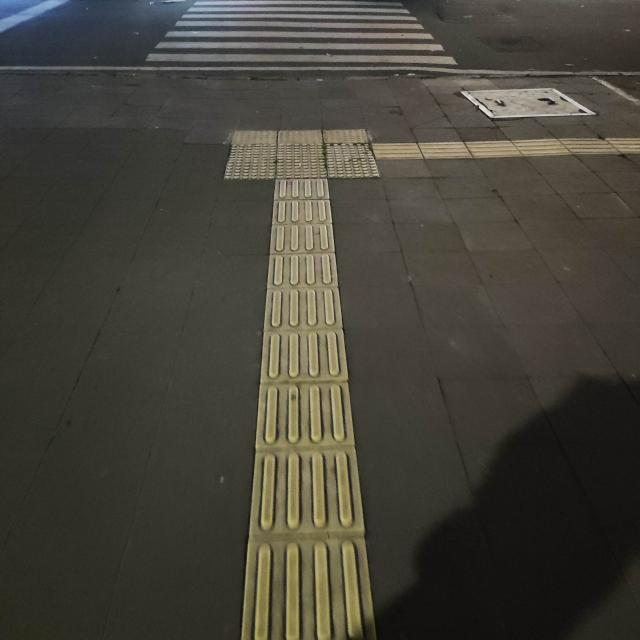kanan: (223, 117, 469, 216)
